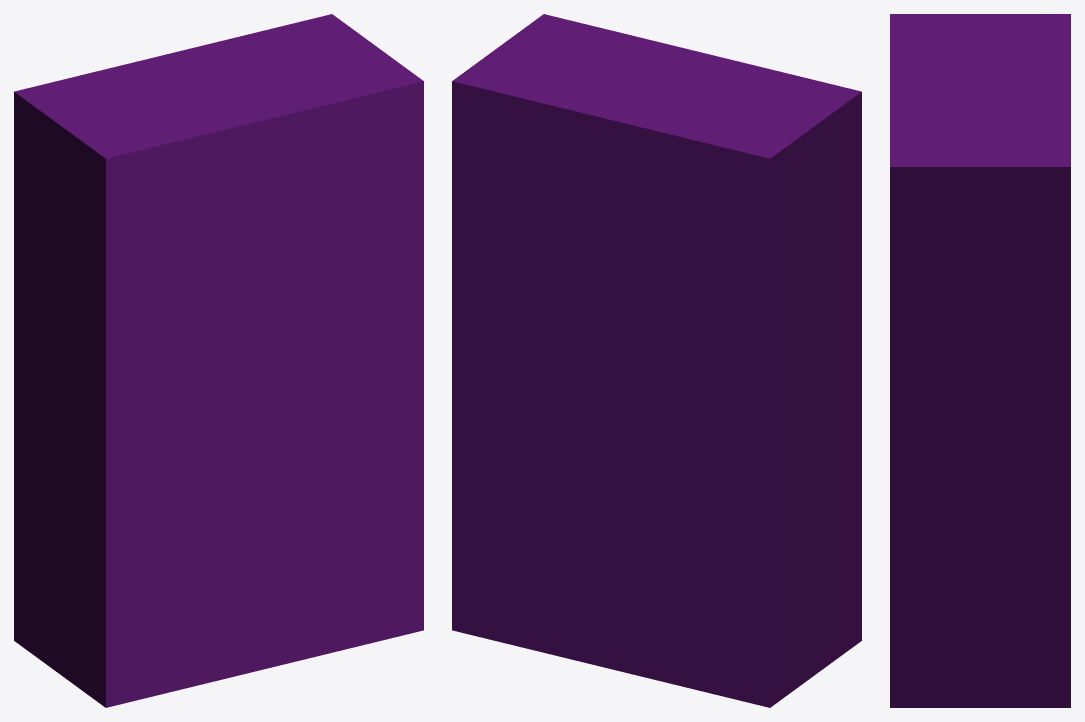
The model's file is book_8.gltf.
3 views of the same model, side by side, from view 1: azimuth 30°, elevation 25°; view 2: azimuth 150°, elevation 25°; view 3: azimuth 270°, elevation 25° (orthographic).
Parts seen in each view (by area): view 1: cuboid; view 2: cuboid; view 3: cuboid.
Part boxes in pixels (bbox=[...]): cuboid: bbox=[14, 14, 423, 707]; cuboid: bbox=[452, 14, 861, 707]; cuboid: bbox=[890, 14, 1070, 707].
Size of the model in its own units: 0.125 by 0.2062 by 0.0625.
Materials: 1 (1 with a texture image).
